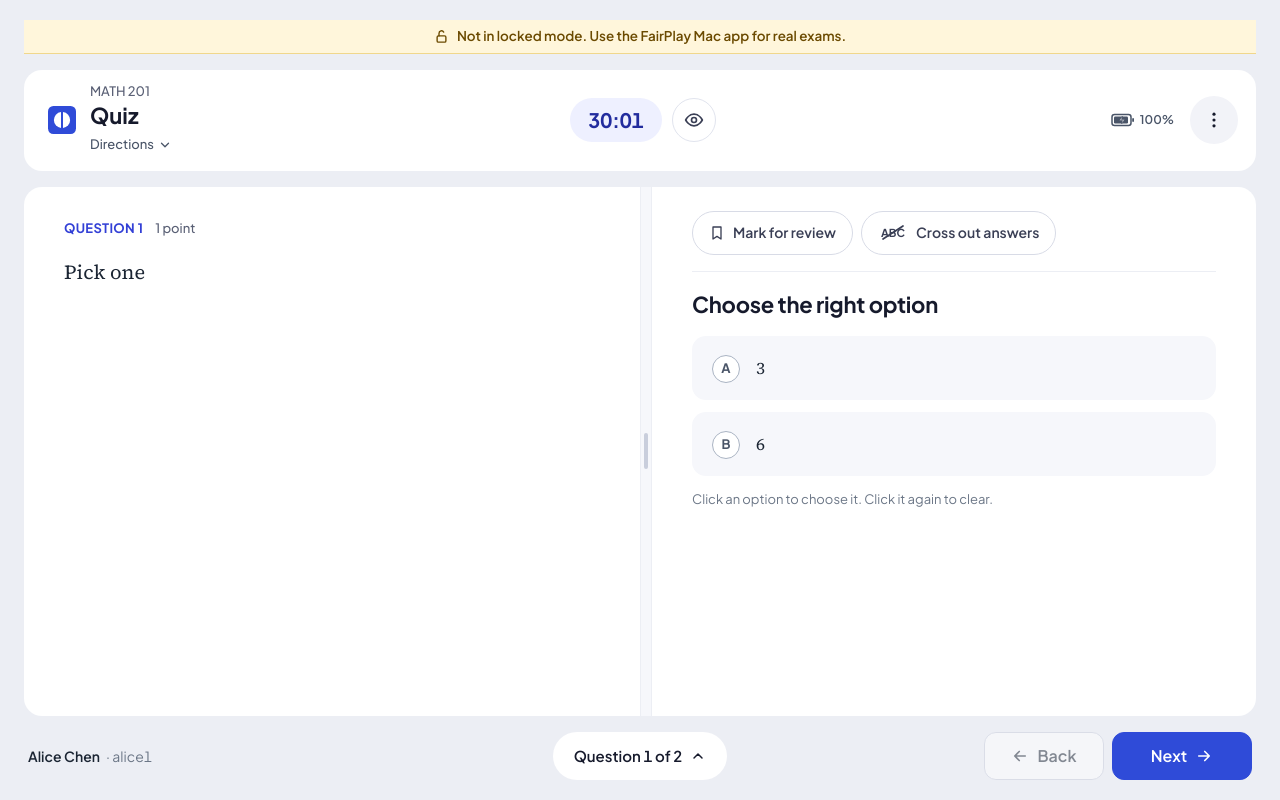
it: exit flow › the exited message clears the exam, stops sending and goes home with a notice
The width and height of the screenshot is (1280, 800).
Check: the heading "Pick one" is shown, box x1=64 y1=258 x2=145 y2=286
Click the text "6". click: click(760, 444)
box: x1=756 y1=431 x2=765 y2=458
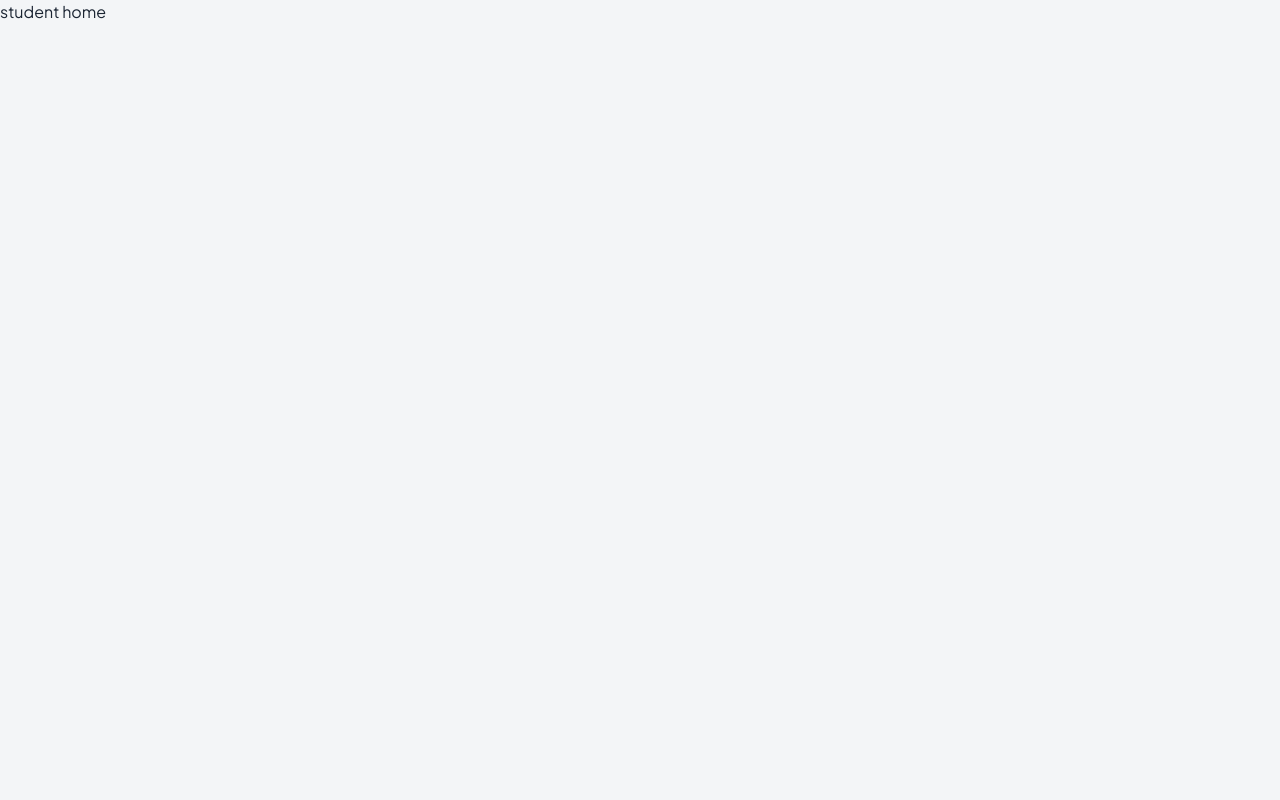
Check: the text "student home" is shown, box x1=0 y1=1 x2=106 y2=22
Check: the heading "Pick one" is gone
Check: the radio button "6" is gone
